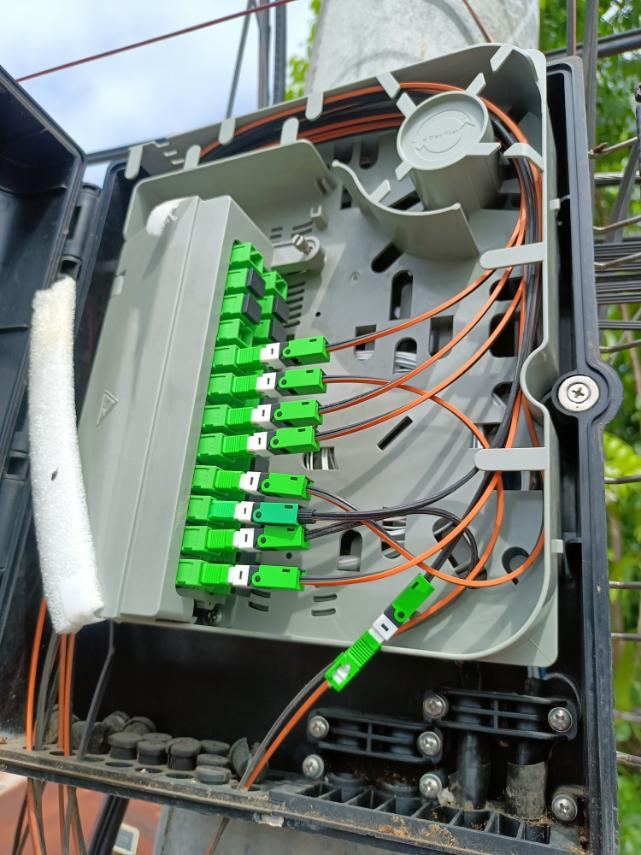no dust cap: (253, 418, 272, 448), (238, 319, 252, 350), (274, 271, 288, 301), (250, 243, 263, 273)
occupied: (236, 334, 338, 367), (224, 423, 326, 455), (227, 392, 329, 424), (231, 363, 333, 395), (201, 563, 306, 594), (212, 498, 317, 529), (214, 471, 319, 502), (208, 522, 318, 551)
vacant: (240, 516, 264, 538), (243, 488, 266, 510), (236, 544, 259, 566), (232, 576, 255, 598), (263, 368, 286, 390), (258, 394, 281, 416), (249, 457, 272, 479), (267, 346, 290, 367), (271, 319, 287, 345), (274, 296, 290, 322), (244, 294, 259, 321), (250, 269, 265, 296)
